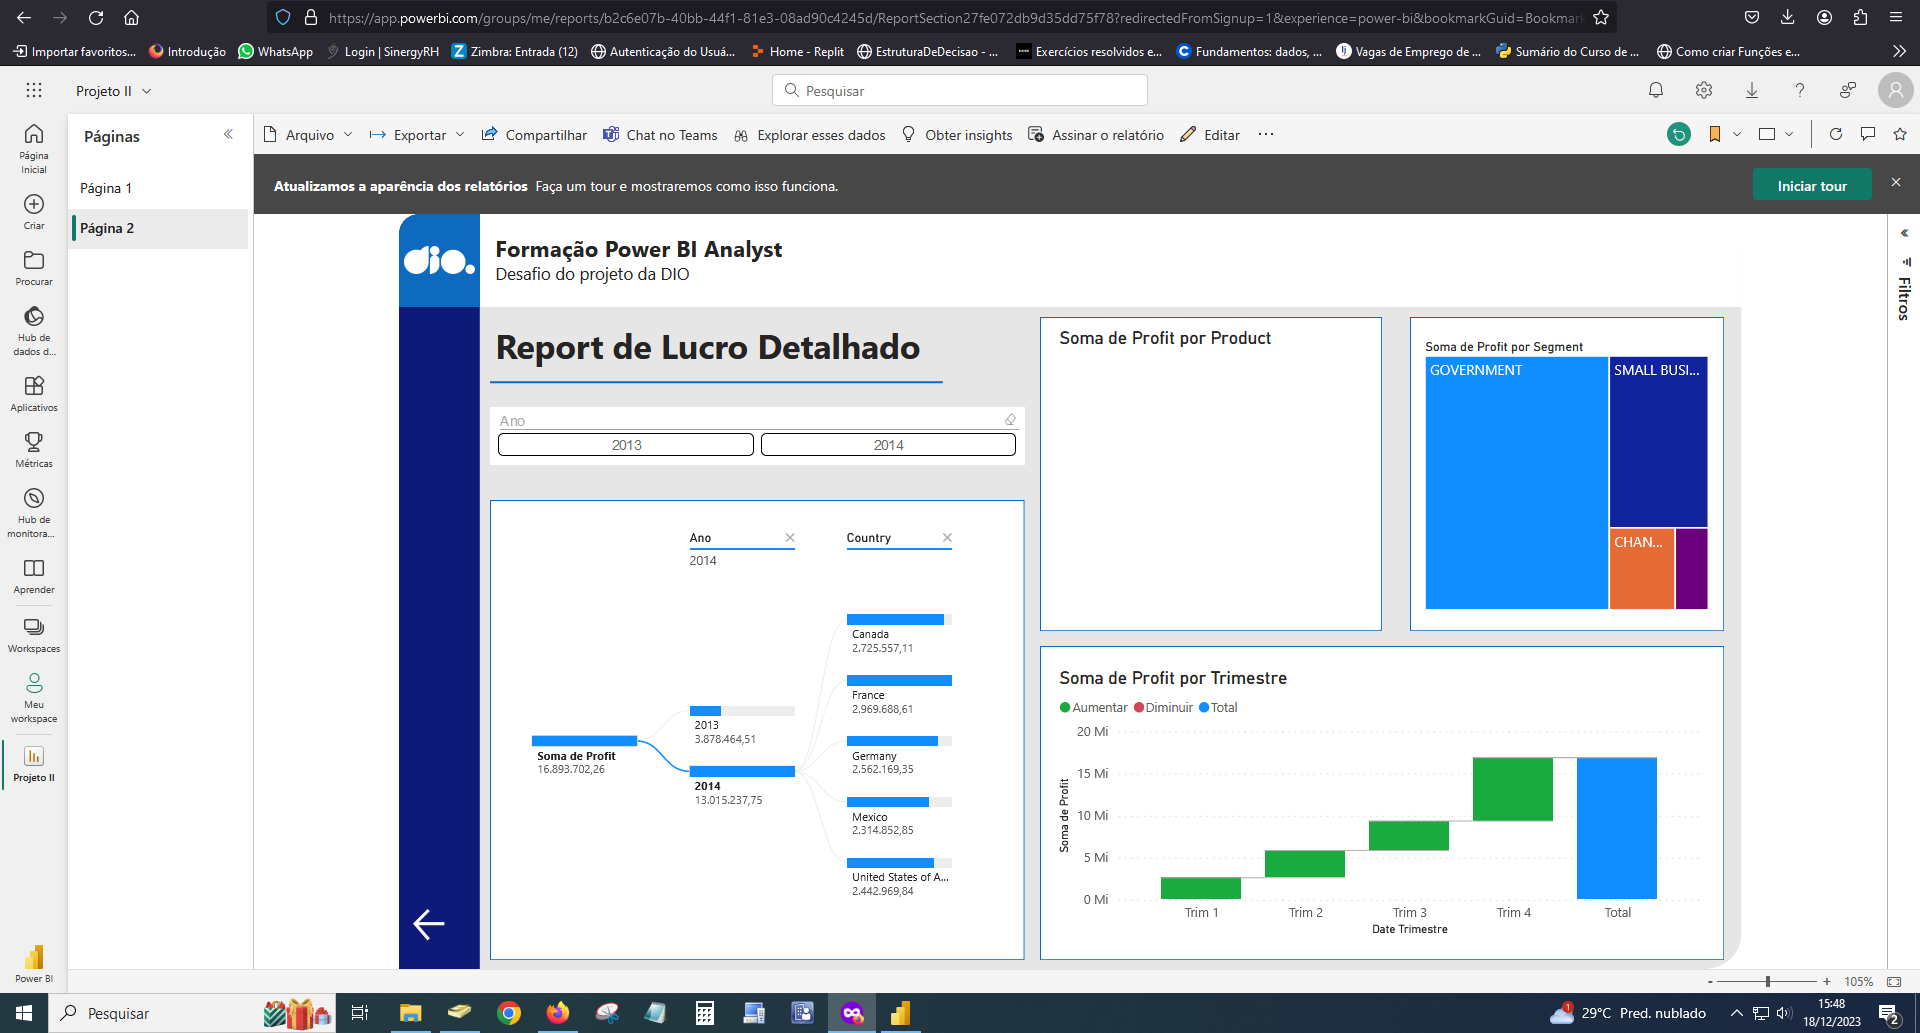

This screenshot's page, from the dashboard's own definition file:
{"tool":"powerbi","page":{"name":"Página 2","canvas":[1280,720],"ordinal":1},"visuals":[{"type":"shape","box":[0,0,1280.4,720],"z":0},{"type":"shape","box":[0,0,77.1,720],"z":1000},{"type":"shape","box":[0,0,77.1,88.7],"z":2000},{"type":"image","title":"DIO","box":[0,10.6,77.1,66.5],"z":3000},{"type":"shape","box":[77.1,0,1203.3,88.7],"z":4000},{"type":"textbox","box":[86.9,13.3,299.7,63.8],"z":5000},{"type":"textbox","box":[86.9,98.4,488.6,62.1],"z":6000},{"type":"shape","box":[86.9,143.6,431.8,32.8],"z":7000},{"type":"shape","box":[86.9,273.1,509.9,438.9],"z":8000},{"type":"shape","box":[610.9,412.3,652.6,299.7],"z":9000},{"type":"shape","box":[610.9,98.4,326.3,299.7],"z":10000},{"type":"shape","box":[963.8,98.4,299.7,299.7],"z":11000},{"type":"decompositionTreeVisual","fields":{"Analyze":["Sum(financials.Profit)"],"ExplainBy":["financials.Date.Variation.Hierarquia de datas.Ano","financials.Country"]},"box":[97.5,282.9,488.6,415],"z":12000},{"type":"treemap","fields":{"Values":["Sum(financials.Profit)"],"Group":["financials.Segment"]},"box":[973.6,117,280.2,265.1],"z":13000},{"type":"waterfallChart","fields":{"Y":["Sum(financials.Profit)"],"Category":["financials.Date.Variation.Hierarquia de datas.Trimestre"]},"box":[624.2,431.8,622.5,260.7],"z":14000},{"type":"RadarChart1446119667547","fields":{"Y":["Sum(financials.Profit)"],"Category":["financials.Product"]},"box":[624.2,107.3,302.4,282],"z":15000},{"type":"ChicletSlicer1448559807354","fields":{"Category":["financials.Date.Variation.Hierarquia de datas.Ano"]},"box":[86.9,184.4,509.9,55],"z":16000},{"type":"actionButton","box":[9.8,657.9,57.6,39.9],"z":17000}]}

Visuals, with their boxes on the page's 1280x720 design canvas (x1, y1, x2, y2). These are canvas units, not pixel positions in the 1920x1033 screenshot, which may show the page scaled, cropped or inside an application window:
shape: [left=0, top=0, right=1280, bottom=720]
shape: [left=0, top=0, right=77, bottom=720]
shape: [left=0, top=0, right=77, bottom=89]
"DIO" image: [left=0, top=11, right=77, bottom=77]
shape: [left=77, top=0, right=1280, bottom=89]
textbox: [left=87, top=13, right=387, bottom=77]
textbox: [left=87, top=98, right=576, bottom=160]
shape: [left=87, top=144, right=519, bottom=176]
shape: [left=87, top=273, right=597, bottom=712]
shape: [left=611, top=412, right=1264, bottom=712]
shape: [left=611, top=98, right=937, bottom=398]
shape: [left=964, top=98, right=1264, bottom=398]
decompositionTreeVisual - Sum(financials.Profit) x financials.Date.Variation.Hierarquia de datas.Ano: [left=98, top=283, right=586, bottom=698]
treemap - Sum(financials.Profit) x financials.Segment: [left=974, top=117, right=1254, bottom=382]
waterfallChart - Sum(financials.Profit) x financials.Date.Variation.Hierarquia de datas.Trimestre: [left=624, top=432, right=1247, bottom=692]
RadarChart1446119667547 - Sum(financials.Profit) x financials.Product: [left=624, top=107, right=927, bottom=389]
ChicletSlicer1448559807354 - financials.Date.Variation.Hierarquia de datas.Ano: [left=87, top=184, right=597, bottom=239]
actionButton: [left=10, top=658, right=67, bottom=698]
